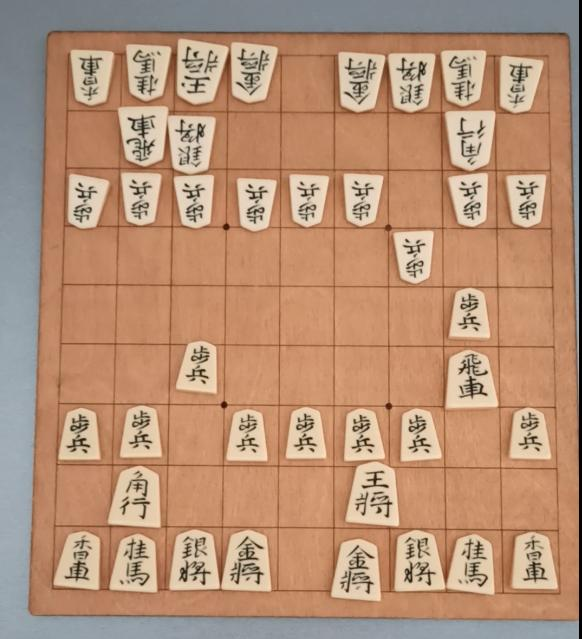board: (57, 53, 555, 590)
